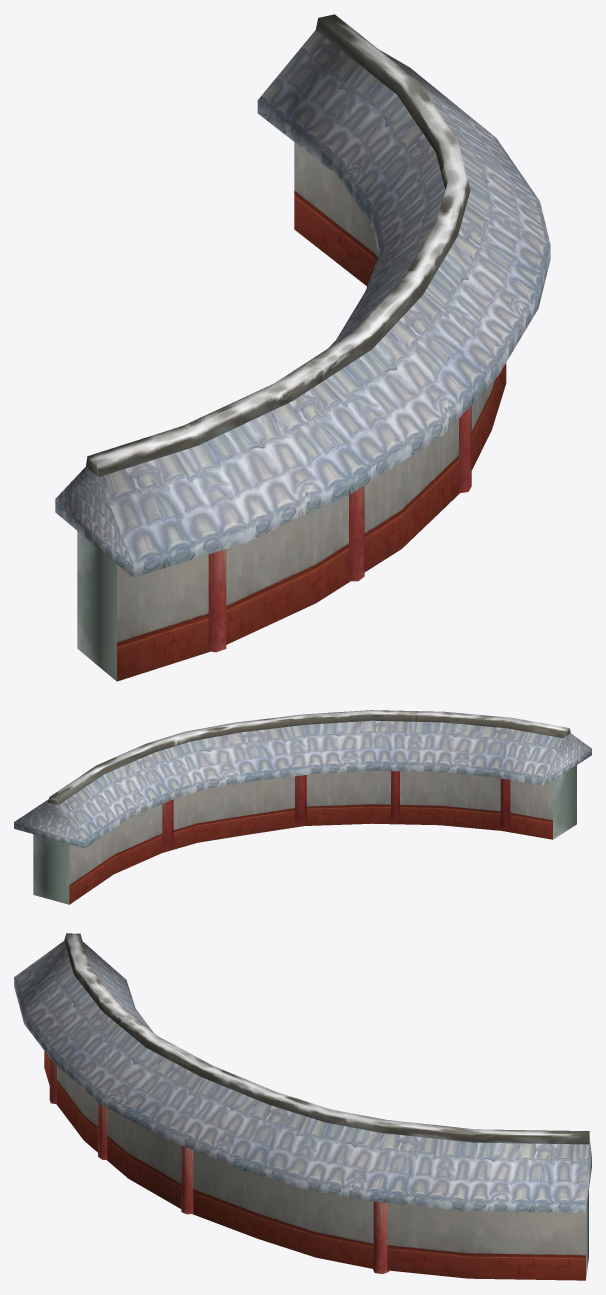
The model's file is SM_House_07.fbx.
3 views of the same model, one above another, from view 1: azimuth 30°, elevation 25°; view 2: azimuth 150°, elevation 25°; view 3: azimuth 270°, elevation 25° (orthographic). The views are drawn at different scales.
Visible parts, largest first — view 1: SM_House_07; view 2: SM_House_07; view 3: SM_House_07.
Boxes of the visible parts, x1,y1,x2,y2 form: SM_House_07: (55,14,550,681); SM_House_07: (14,710,591,904); SM_House_07: (14,933,591,1280).
Size of the model in its own units: 7.35 by 2.05 by 7.9.
